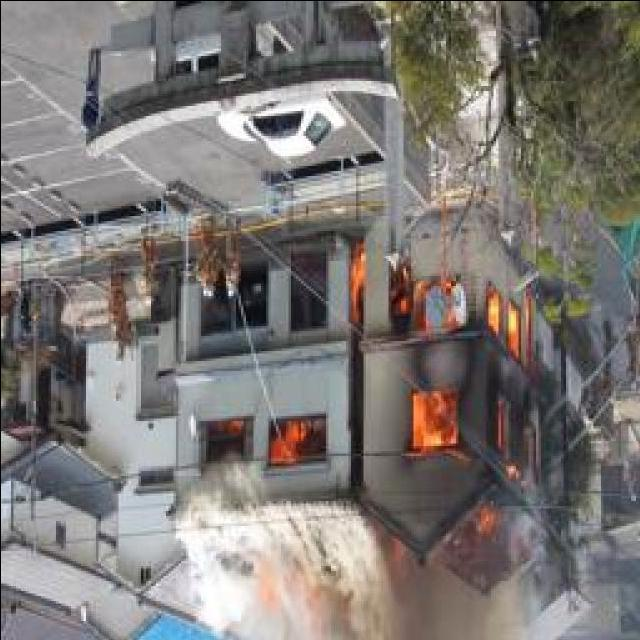Fire: (344, 243, 570, 529), (224, 398, 340, 479)
